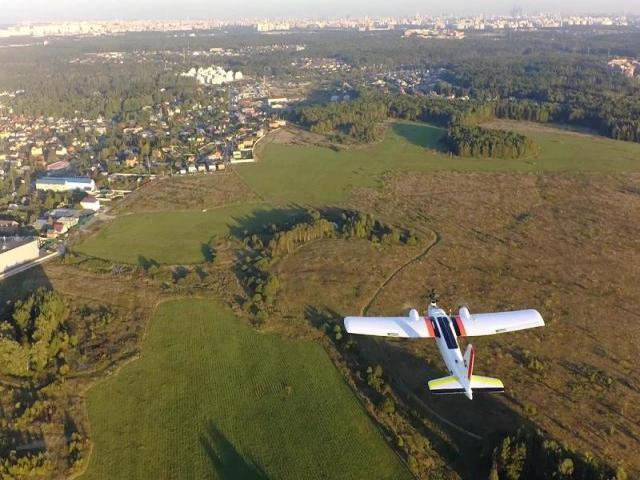hedef: (342, 285, 556, 413)
